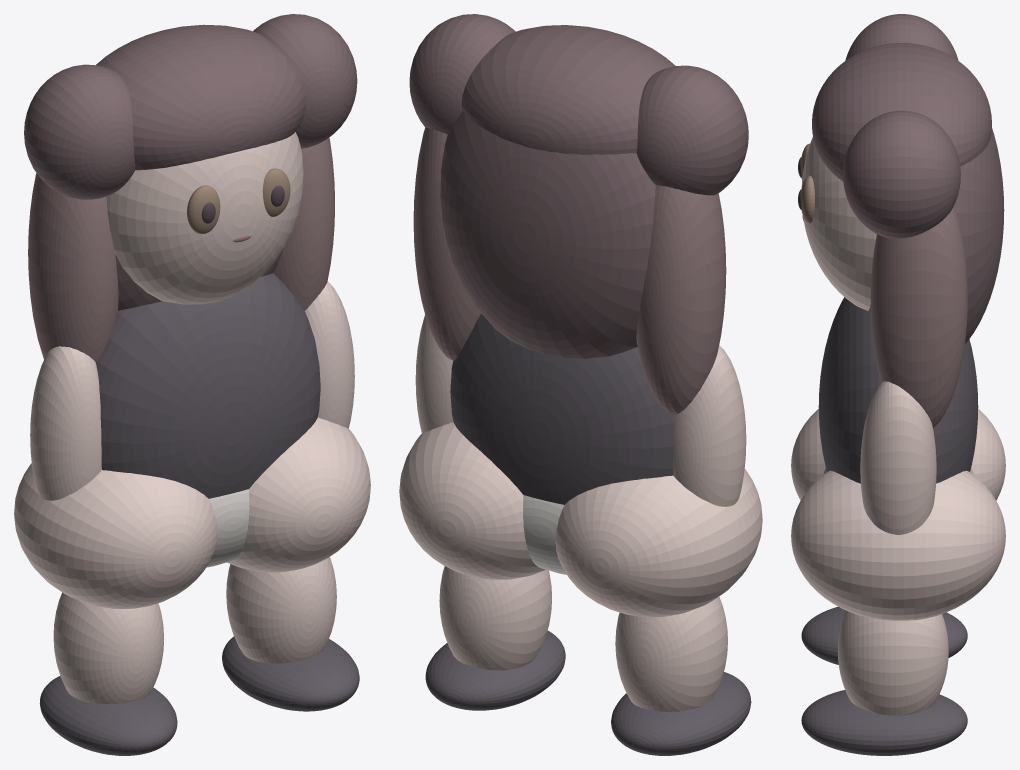
File: aiko_modelo3d_prototipo.glb
The picture shows the model from 3 angles, left to right: view 1: azimuth 30°, elevation 25°; view 2: azimuth 150°, elevation 25°; view 3: azimuth 270°, elevation 25°; orthographic projection. The views are drawn at different scales.
Parts seen in each view (by area): view 1: Torso, LeftThigh, Head, HairTop, RightThigh, HairLeftTail, HairLeftBun, LeftCalf, RightCalf, LeftUpperArm, HairRightBun, LeftShoe (+7 smaller); view 2: HairBack, Torso, LeftThigh, HairTop, HairLeftTail, RightThigh, HairLeftBun, LeftCalf, RightCalf, LeftUpperArm, HairRightTail, HairRightBun (+4 smaller); view 3: RightThigh, HairRightTail, HairTop, HairRightBun, Torso, RightCalf, RightUpperArm, RightShoe, Head, HairBack, LeftThigh, HairLeftBun (+2 smaller).
Part boxes in pixels (left/top/right/bottom): Torso: left=95, top=273, right=320, bottom=498; LeftThigh: left=14, top=463, right=217, bottom=608; Head: left=106, top=132, right=303, bottom=304; HairTop: left=96, top=24, right=305, bottom=170; RightThigh: left=227, top=417, right=370, bottom=572; HairLeftTail: left=28, top=173, right=118, bottom=361; HairLeftBun: left=24, top=64, right=135, bottom=199; LeftCalf: left=53, top=592, right=163, bottom=703; RightCalf: left=226, top=557, right=336, bottom=663; LeftUpperArm: left=30, top=346, right=101, bottom=500; HairRightBun: left=253, top=14, right=357, bottom=148; LeftShoe: left=39, top=676, right=177, bottom=755; HairBack: left=440, top=111, right=655, bottom=358; Torso: left=450, top=313, right=674, bottom=504; LeftThigh: left=555, top=469, right=762, bottom=617; HairTop: left=461, top=25, right=675, bottom=154; HairLeftTail: left=636, top=185, right=726, bottom=414; RightThigh: left=399, top=422, right=545, bottom=579; HairLeftBun: left=637, top=65, right=748, bottom=195; LeftCalf: left=615, top=596, right=727, bottom=711; RightCalf: left=439, top=566, right=551, bottom=670; LeftUpperArm: left=673, top=345, right=746, bottom=506; HairRightTail: left=413, top=127, right=480, bottom=360; HairRightBun: left=409, top=14, right=515, bottom=134; RightThigh: left=791, top=470, right=1005, bottom=620; HairRightTail: left=870, top=206, right=967, bottom=427; HairTop: left=812, top=43, right=991, bottom=181; HairRightBun: left=843, top=110, right=960, bottom=238; Torso: left=818, top=297, right=978, bottom=483; RightCalf: left=838, top=610, right=948, bottom=715; RightUpperArm: left=860, top=381, right=936, bottom=534; RightShoe: left=801, top=690, right=967, bottom=755; Head: left=801, top=137, right=876, bottom=310; HairBack: left=868, top=128, right=1004, bottom=343; LeftThigh: left=791, top=408, right=1005, bottom=500; HairLeftBun: left=845, top=14, right=958, bottom=60.
Bounding box in the file's own units: 2.57 × 5.11 × 1.55.
